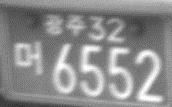2: (134, 48, 164, 102), (105, 16, 126, 43)
3: (87, 14, 105, 41)
5: (106, 45, 134, 99), (78, 43, 105, 98)
6: (51, 43, 78, 95)
광주_O: (44, 12, 86, 36)
머: (13, 40, 44, 77)
